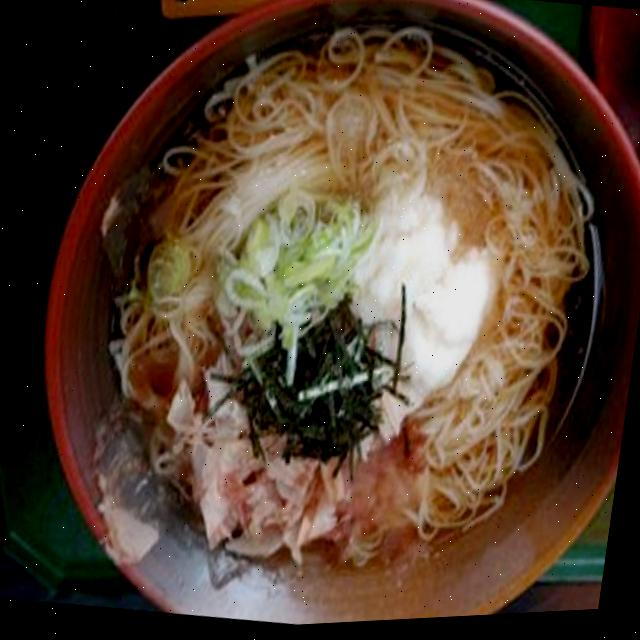面条主食: (20, 0, 640, 639)
